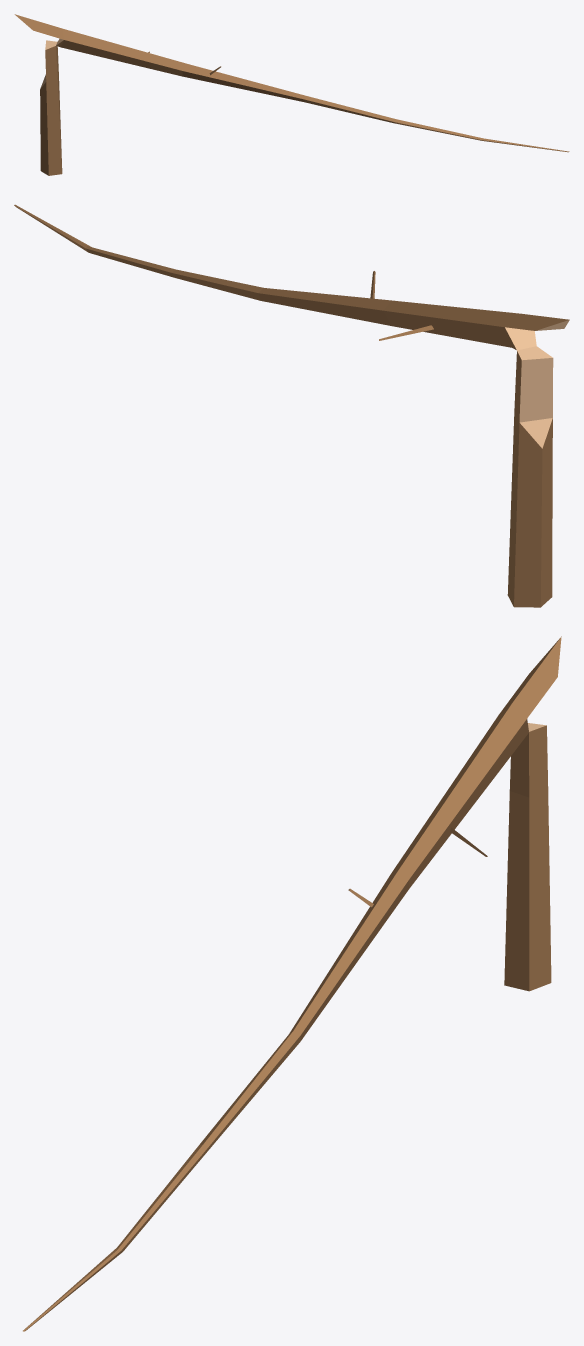
Rendered from Pine_Tree_NoLeaves_crk_l_BT_07.fbx.
The picture shows the model from 3 angles, top to bottom: view 1: azimuth 30°, elevation 25°; view 2: azimuth 150°, elevation 25°; view 3: azimuth 270°, elevation 25°; orthographic projection. The views are drawn at different scales.
Parts seen in each view (by area): view 1: Pine_Tree_NoLeaves_crk_l_BT_07; view 2: Pine_Tree_NoLeaves_crk_l_BT_07; view 3: Pine_Tree_NoLeaves_crk_l_BT_07.
Part boxes in pixels (left/top/right/bottom): Pine_Tree_NoLeaves_crk_l_BT_07: left=14, top=14, right=569, bottom=175; Pine_Tree_NoLeaves_crk_l_BT_07: left=14, top=204, right=569, bottom=607; Pine_Tree_NoLeaves_crk_l_BT_07: left=23, top=636, right=561, bottom=1331.
Size of the model in its own units: 1357 by 486 by 752.
